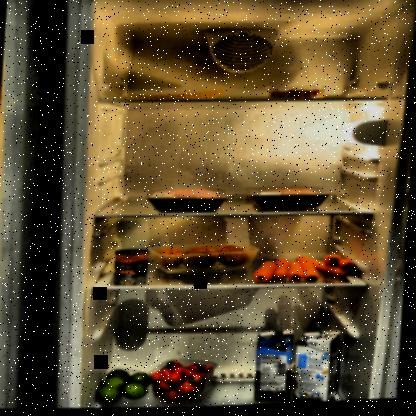beef: (245, 185, 334, 214)
carrot: (250, 253, 362, 289)
corn: (115, 249, 151, 280)
ground_beef: (146, 188, 232, 216)
lime: (97, 368, 155, 408)
milk: (294, 331, 346, 404), (252, 329, 301, 406)
potato: (157, 240, 256, 273)
shrimp: (268, 92, 324, 105)
strawberries: (147, 357, 221, 407)
